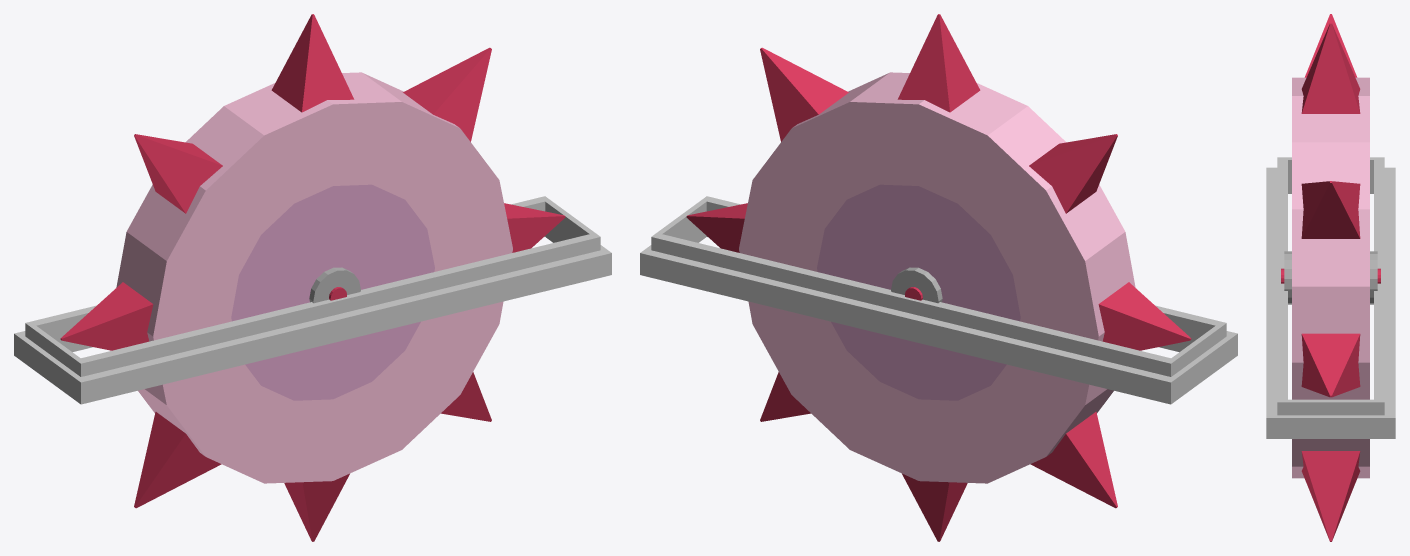
The model's file is Razor.fbx.
3 views of the same model, side by side, from view 1: azimuth 30°, elevation 25°; view 2: azimuth 150°, elevation 25°; view 3: azimuth 270°, elevation 25° (orthographic). The views are drawn at different scales.
Parts seen in each view (by area): view 1: Razor_GEO.001, Razor_Base_GEO; view 2: Razor_GEO.001, Razor_Base_GEO; view 3: Razor_GEO.001, Razor_Base_GEO.
Part boxes in pixels (x1,y1,x2,y2): Razor_GEO.001: [60, 14, 565, 541]; Razor_Base_GEO: [14, 196, 611, 404]; Razor_GEO.001: [686, 14, 1191, 541]; Razor_Base_GEO: [640, 196, 1237, 404]; Razor_GEO.001: [1281, 14, 1380, 541]; Razor_Base_GEO: [1266, 157, 1395, 438].
Bounding box in the file's own units: 1.32 × 1.25 × 0.2878.
